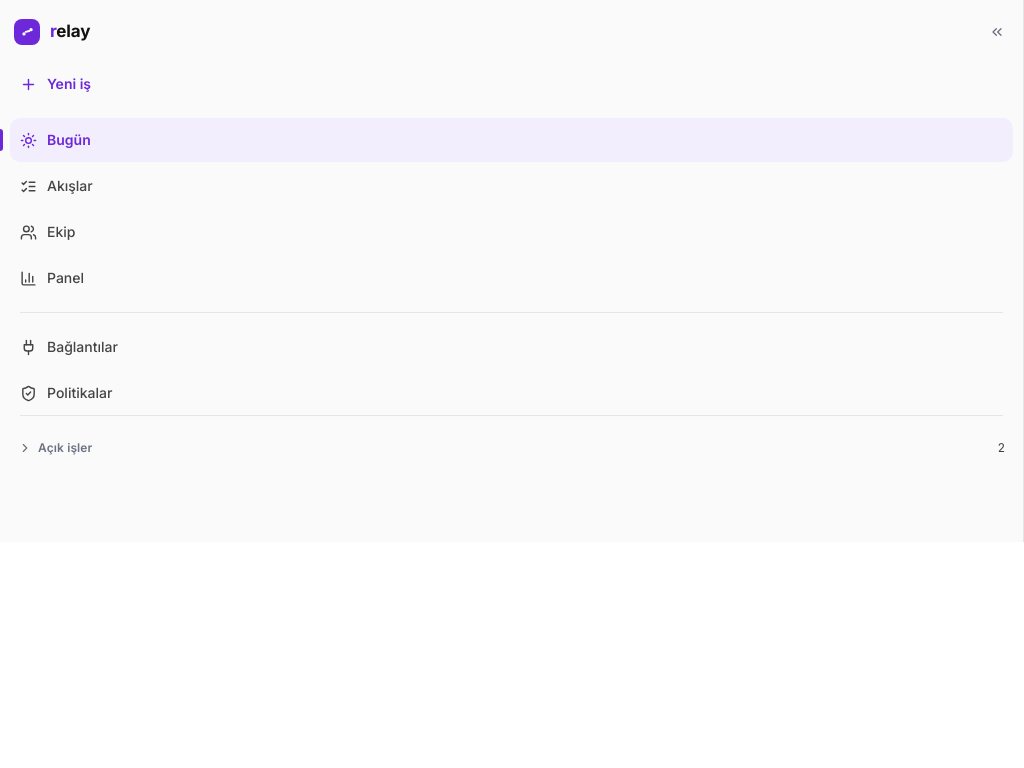
the_live_list_starts_closed_and_still_says_how_many_are_running
The width and height of the screenshot is (1024, 768).
Click the button "Açık işler 2" at (65, 448), box x1=10 y1=428 x2=1013 y2=468
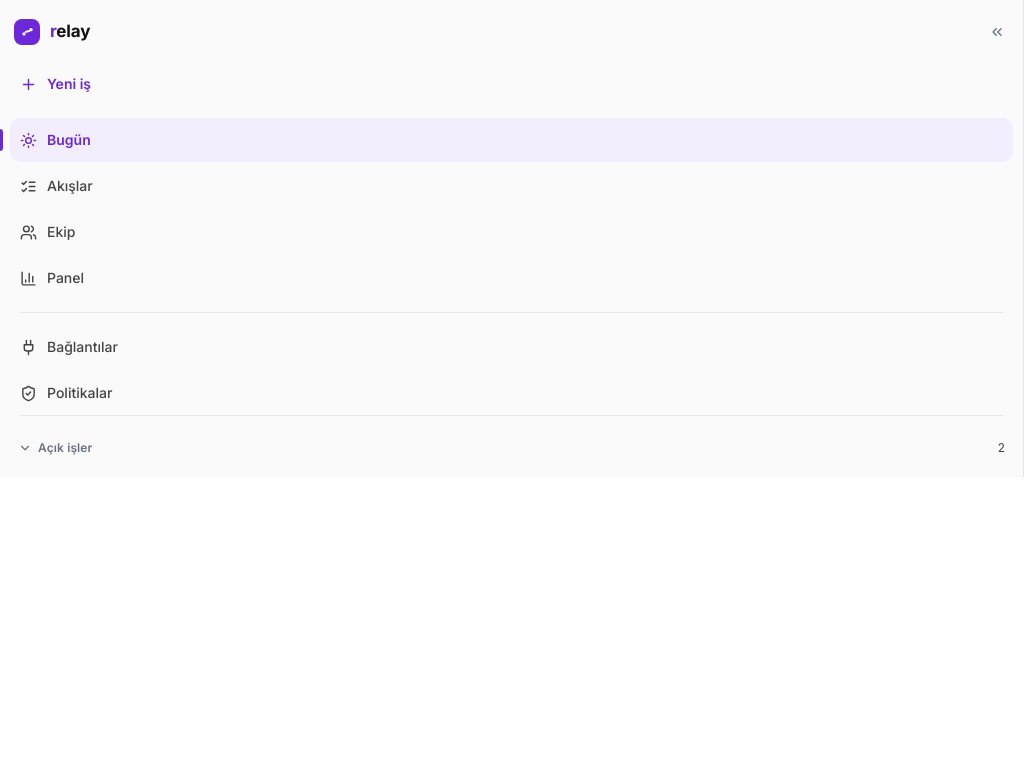
Check: the button "Açık işler 2" is expanded, box x1=10 y1=428 x2=1013 y2=468
